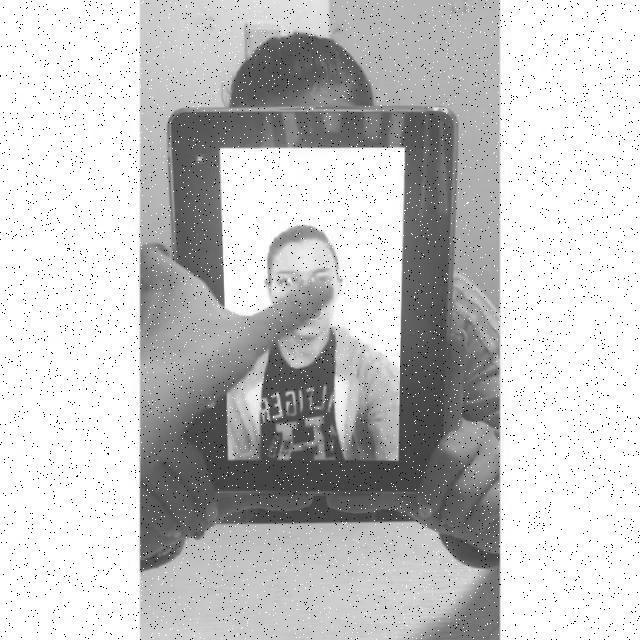fake: (165, 106, 463, 503)
